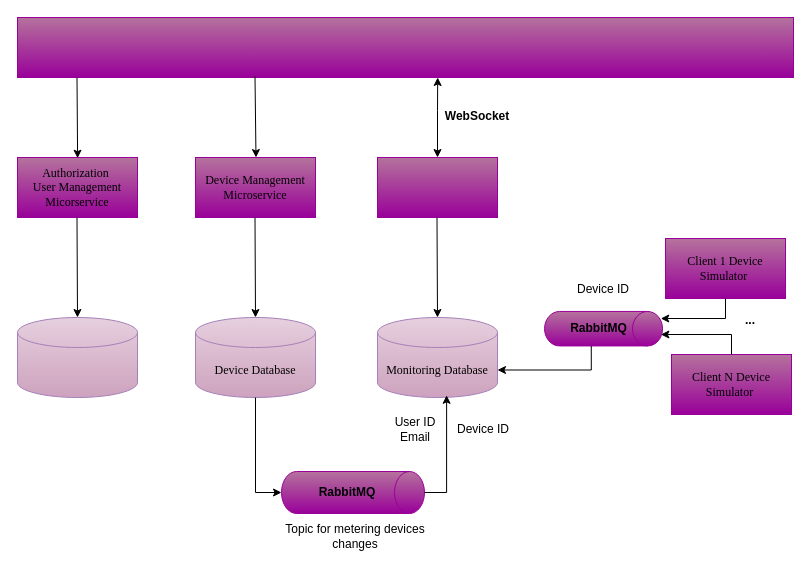
Some shapes in this 811 by 569 pixel diagram are drawn without their labels. Each missing label, with the centre of its shape:
Monitoring and Comunication Microservice: point (437, 187)
User Database: point (77, 357)
Visualization Platform (React): point (405, 47)
